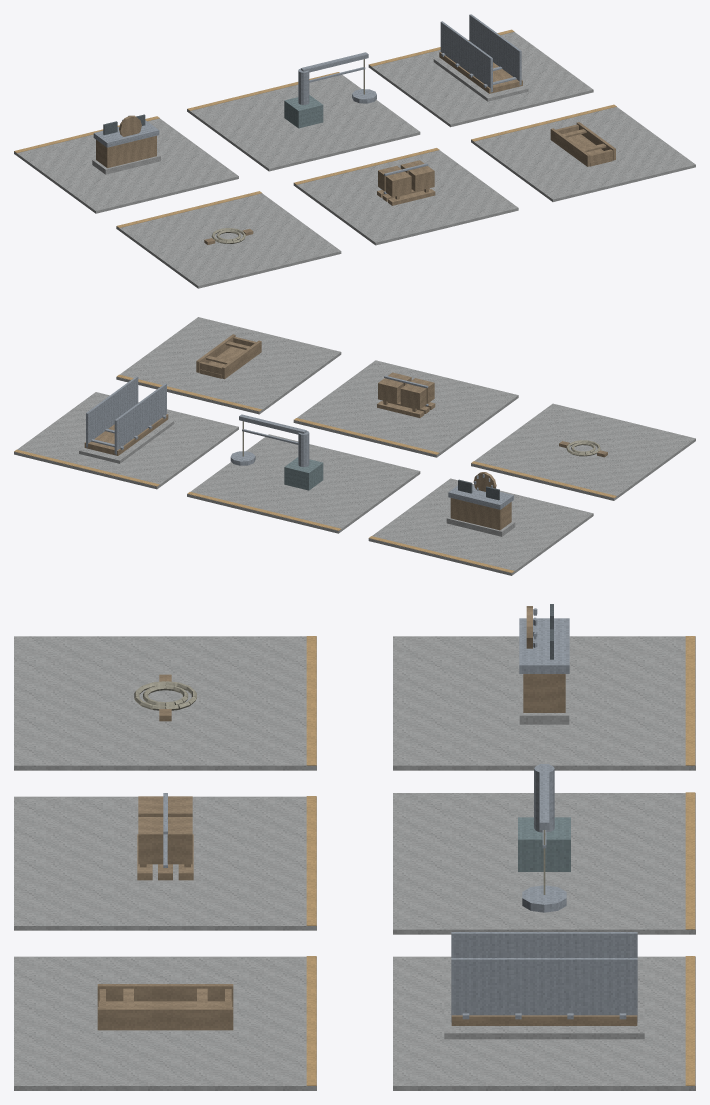
The model's file is level_blockout_kit_wld_06_p03.glb.
3 renders of one model, top to bottom at view 1: azimuth 30°, elevation 25°; view 2: azimuth 150°, elevation 25°; view 3: azimuth 270°, elevation 25°, orthographic. The views are drawn at different scales.
Visible parts, largest first — view 1: level_blockout_kit_wld_06_p03; view 2: level_blockout_kit_wld_06_p03; view 3: level_blockout_kit_wld_06_p03.
Part boxes in pixels (x1,y1,x2,y2): level_blockout_kit_wld_06_p03: (14,14,695,288); level_blockout_kit_wld_06_p03: (14,317,695,575); level_blockout_kit_wld_06_p03: (14,604,695,1090).
Size of the model in its own units: 19.65 by 2.06 by 12.6.
Materials: 7 (7 with a texture image).
